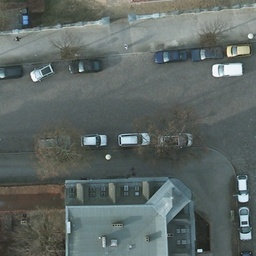car: (159, 128, 194, 148), (188, 45, 223, 62), (69, 58, 103, 75), (35, 138, 67, 155), (239, 205, 254, 240), (118, 131, 150, 147), (30, 62, 54, 83), (212, 62, 242, 78), (0, 62, 25, 80), (81, 133, 107, 150), (152, 51, 187, 63), (237, 173, 250, 203), (226, 45, 252, 58)
